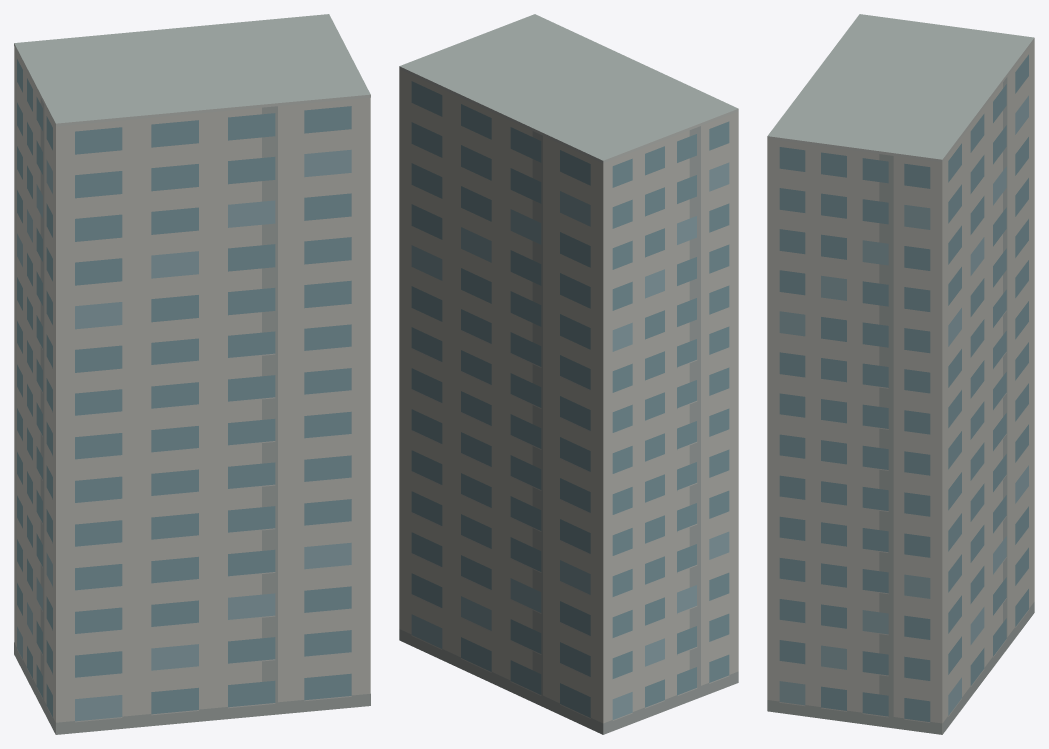
Rendered from residential-0a14ef99-a703-4f49-9581-12413d2d5846.glb.
The picture shows the model from 3 angles, left to right: view 1: azimuth 30°, elevation 25°; view 2: azimuth 150°, elevation 25°; view 3: azimuth 270°, elevation 25°; orthographic projection. The views are drawn at different scales.
Parts seen in each view (by area): view 1: residential-0a14ef99-a703-4f49-9581-12413d2d5846.tmp; view 2: residential-0a14ef99-a703-4f49-9581-12413d2d5846.tmp; view 3: residential-0a14ef99-a703-4f49-9581-12413d2d5846.tmp.
Part boxes in pixels (bbox=[...]): residential-0a14ef99-a703-4f49-9581-12413d2d5846.tmp: bbox=[14, 14, 370, 734]; residential-0a14ef99-a703-4f49-9581-12413d2d5846.tmp: bbox=[399, 14, 738, 734]; residential-0a14ef99-a703-4f49-9581-12413d2d5846.tmp: bbox=[767, 14, 1034, 734].
Bounding box in the file's own units: 27.17 × 50 × 21.06.
